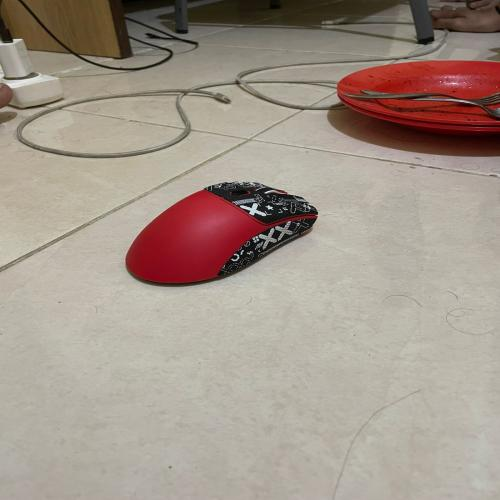mouse: (113, 170, 350, 303)
